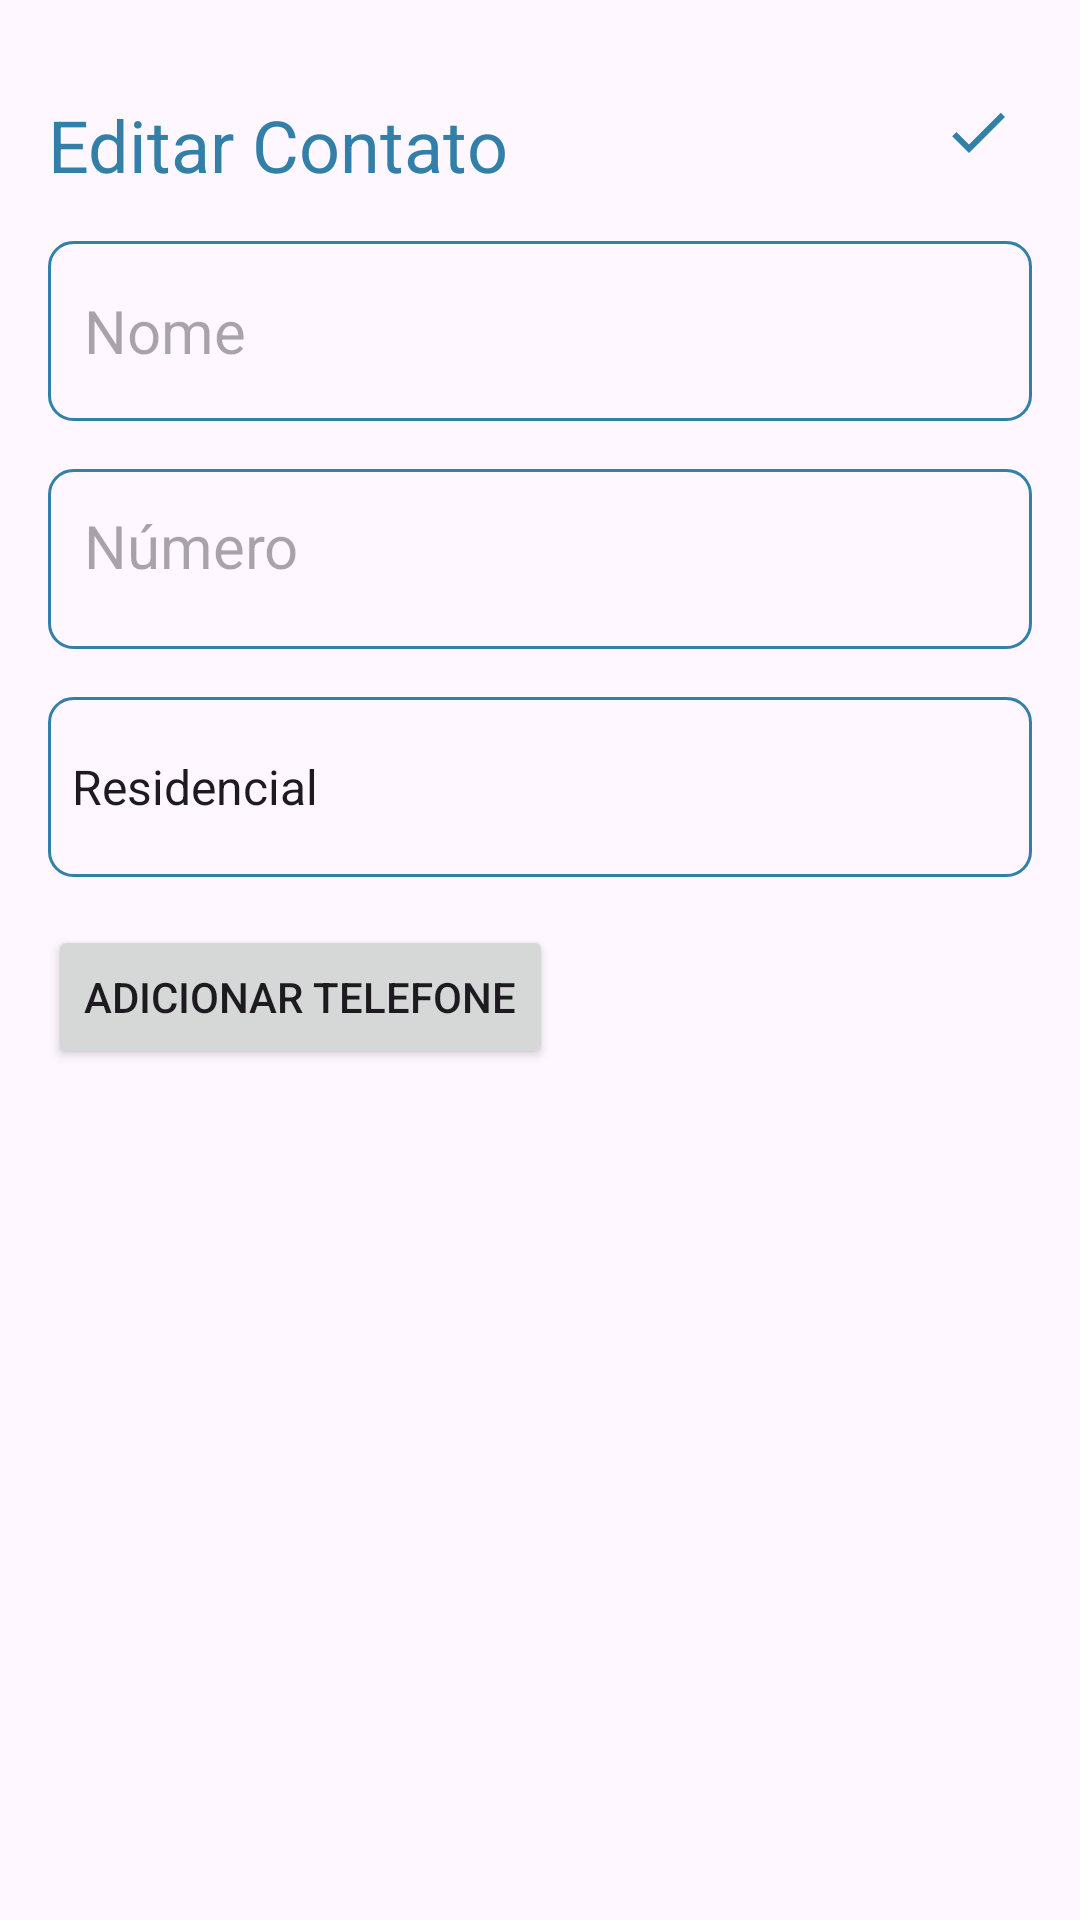

Named icons in this screenshot (1080x1920) and their centers, point (x, y):
done: point (978, 133)
